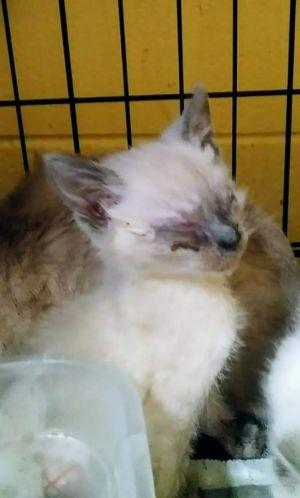siamese: (37, 89, 260, 317)
